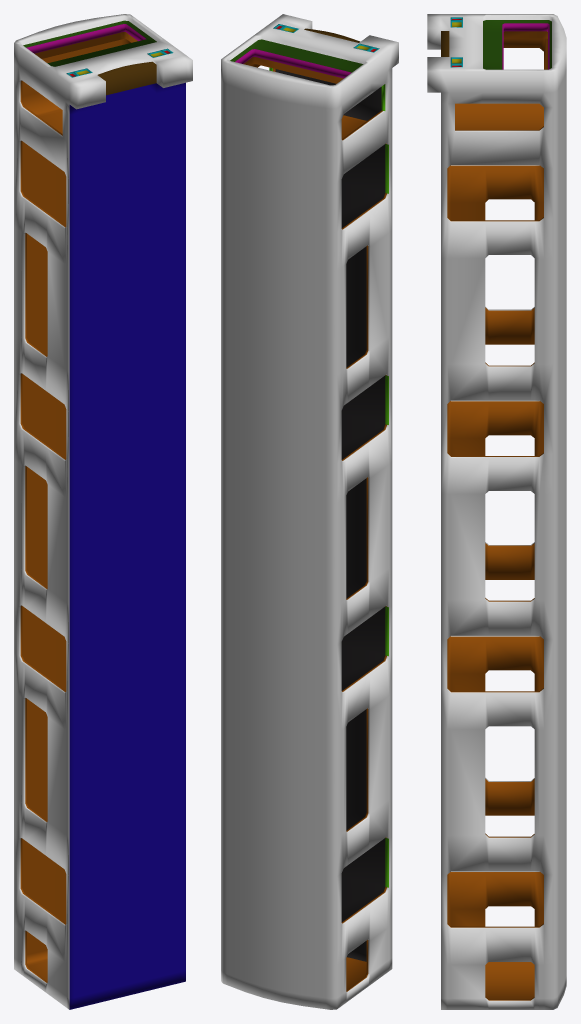
File: SubwayCart_01_A.fbx
3 renders of one model, left to right at view 1: azimuth 30°, elevation 25°; view 2: azimuth 150°, elevation 25°; view 3: azimuth 270°, elevation 25°, orthographic.
Visible parts, largest first — view 1: SubwayCart_01_A_low; view 2: SubwayCart_01_A_low; view 3: SubwayCart_01_A_low.
Part boxes in pixels (box(x1,y1,x2,y2)): SubwayCart_01_A_low: box(14, 14, 192, 1009); SubwayCart_01_A_low: box(221, 14, 398, 1009); SubwayCart_01_A_low: box(427, 14, 566, 1009).
Bounding box in the file's own units: 3.1 × 23.56 × 3.17.
